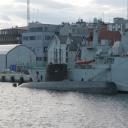submarine: (16, 47, 120, 95)
